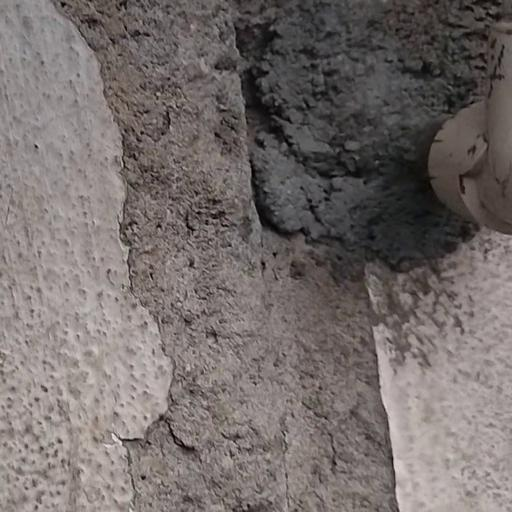spalling: (59, 0, 471, 512)
